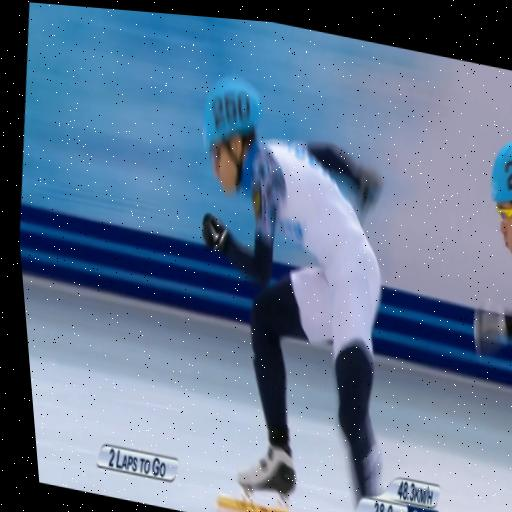Skater: (203, 77, 381, 507)
